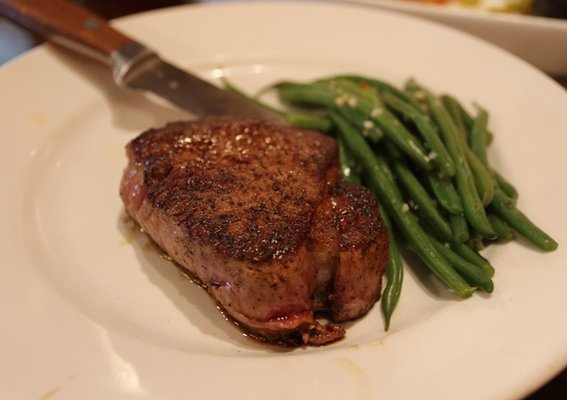burger: (0, 2, 297, 134)
soup: (117, 119, 399, 348)
